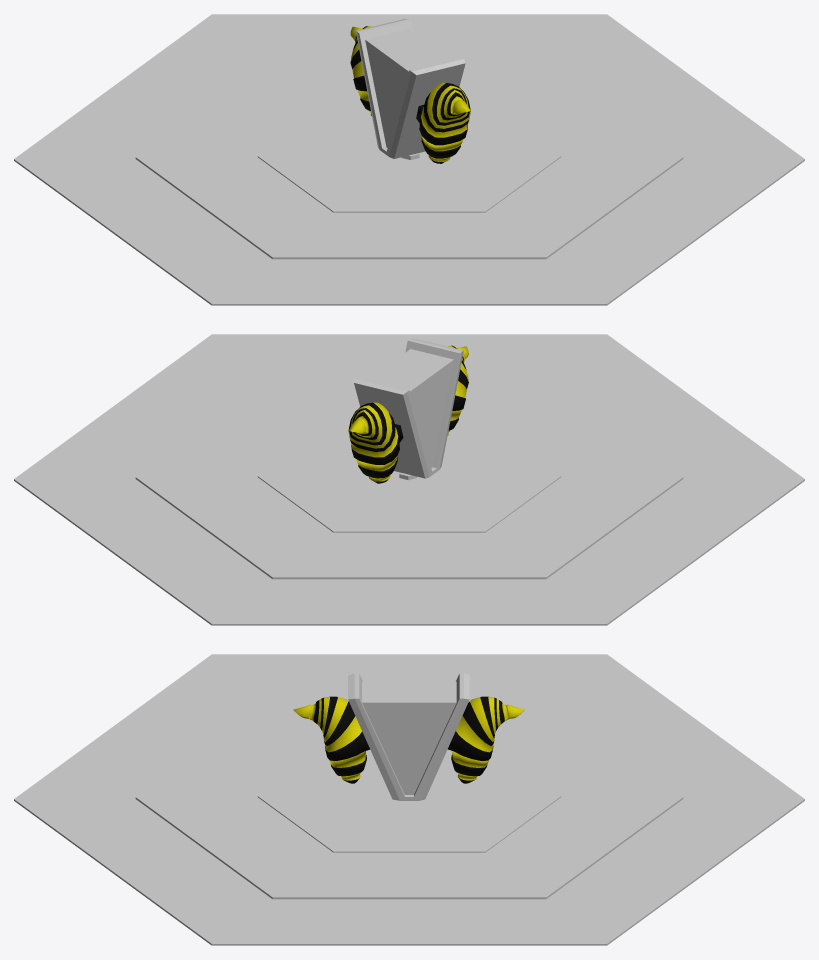
File: SmokeModel.fbx
3 renders of one model, top to bottom at view 1: azimuth 30°, elevation 25°; view 2: azimuth 150°, elevation 25°; view 3: azimuth 270°, elevation 25°, orthographic.
Visible parts, largest first — view 1: Cube, Cube.001; view 2: Cube, Cube.001; view 3: Cube, Cube.001.
Part boxes in pixels (left/top/right/bottom): Cube: left=14, top=14, right=804, bottom=305; Cube.001: left=350, top=18, right=470, bottom=163; Cube: left=14, top=334, right=804, bottom=625; Cube.001: left=348, top=338, right=468, bottom=483; Cube: left=14, top=654, right=804, bottom=945; Cube.001: left=293, top=673, right=524, bottom=800.
Size of the model in its own units: 1170 by 217 by 1351.
